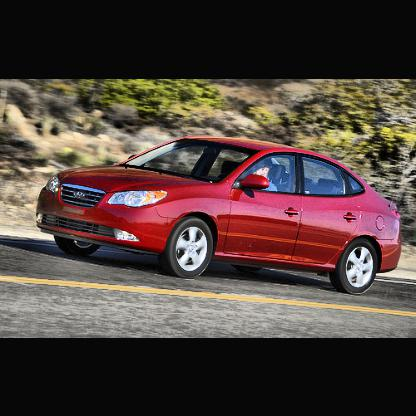Hyundai Elantra Sedan 2007: (35, 135, 406, 297)
